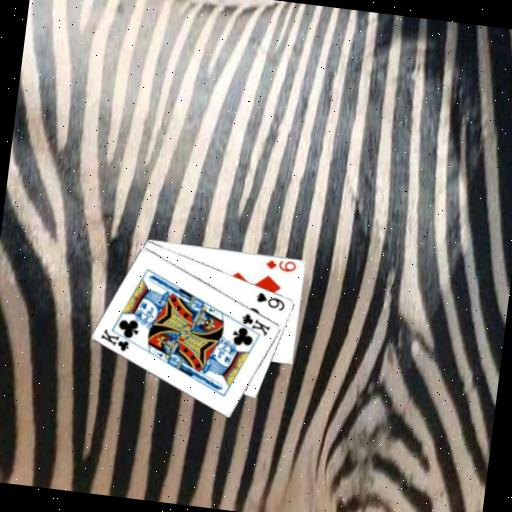6S: (252, 289, 288, 313)
9D: (263, 256, 298, 274)
KC: (96, 324, 139, 354), (231, 309, 273, 339)
